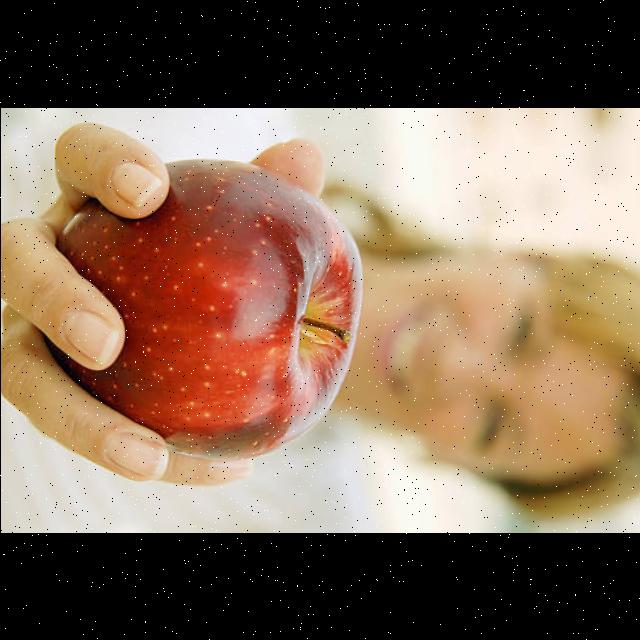Apel Segar: (54, 156, 358, 482)
